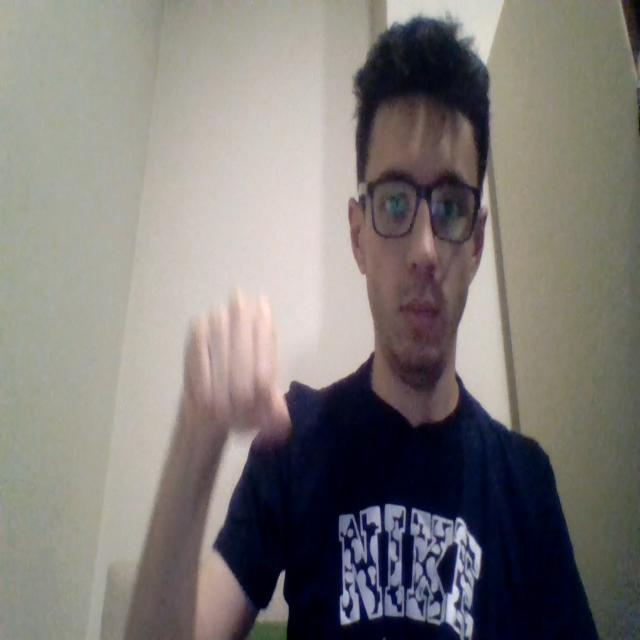yes: (180, 286, 290, 449)
